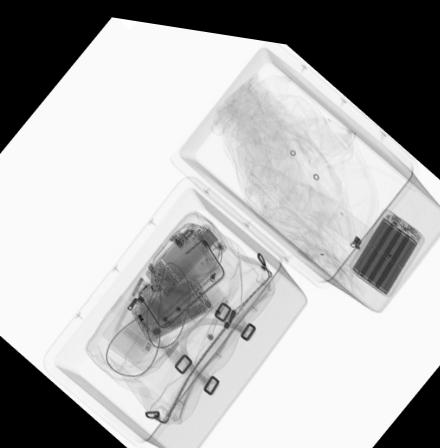Lighter: (132, 276, 152, 299)
